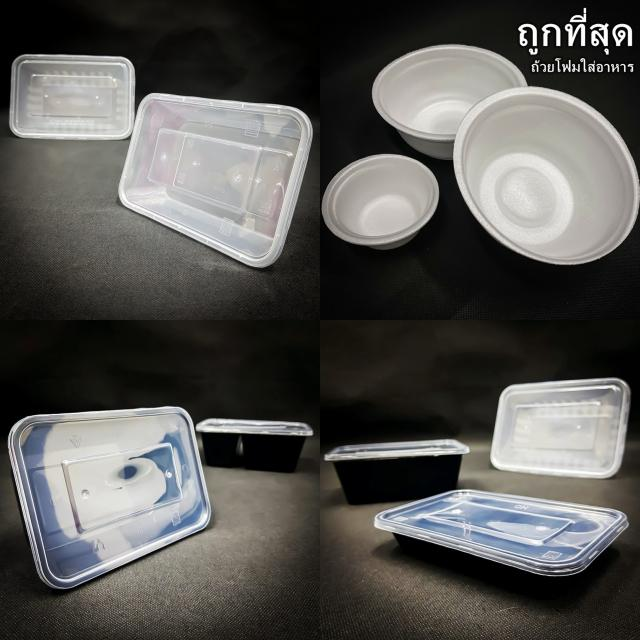Single-Use-Plastic: (8, 406, 210, 589), (119, 94, 312, 268), (454, 86, 640, 265), (375, 490, 629, 596), (372, 45, 528, 159), (490, 378, 630, 478), (321, 154, 439, 249), (10, 55, 135, 139), (324, 439, 469, 504), (196, 419, 312, 472)
